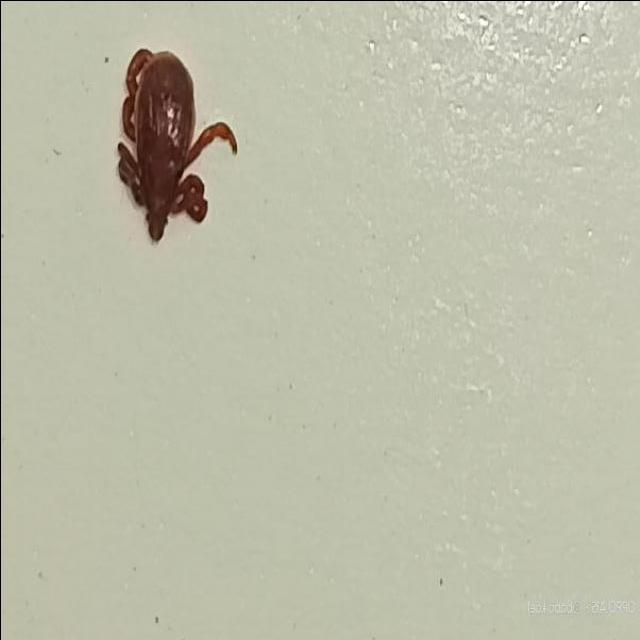Rhipicephalus Sanguineus-M: (114, 49, 234, 244)
